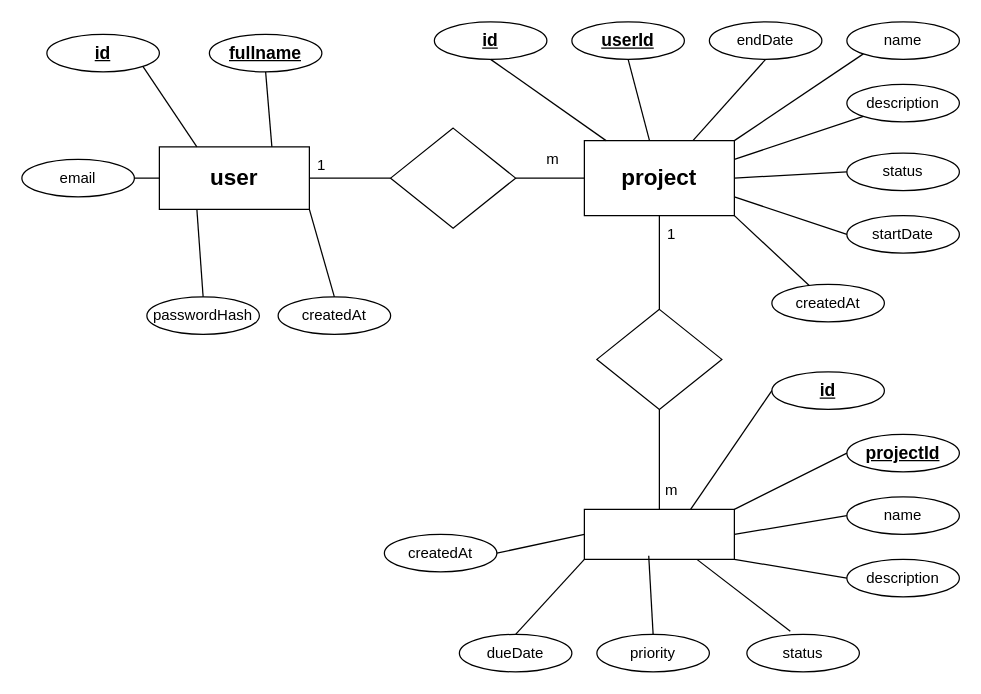
This 981x694 diagram has some shape labels left out. Each missing label, with the centre of its shape:
contains: the point at 659,358
owns: the point at 452,177
task: the point at 658,533
